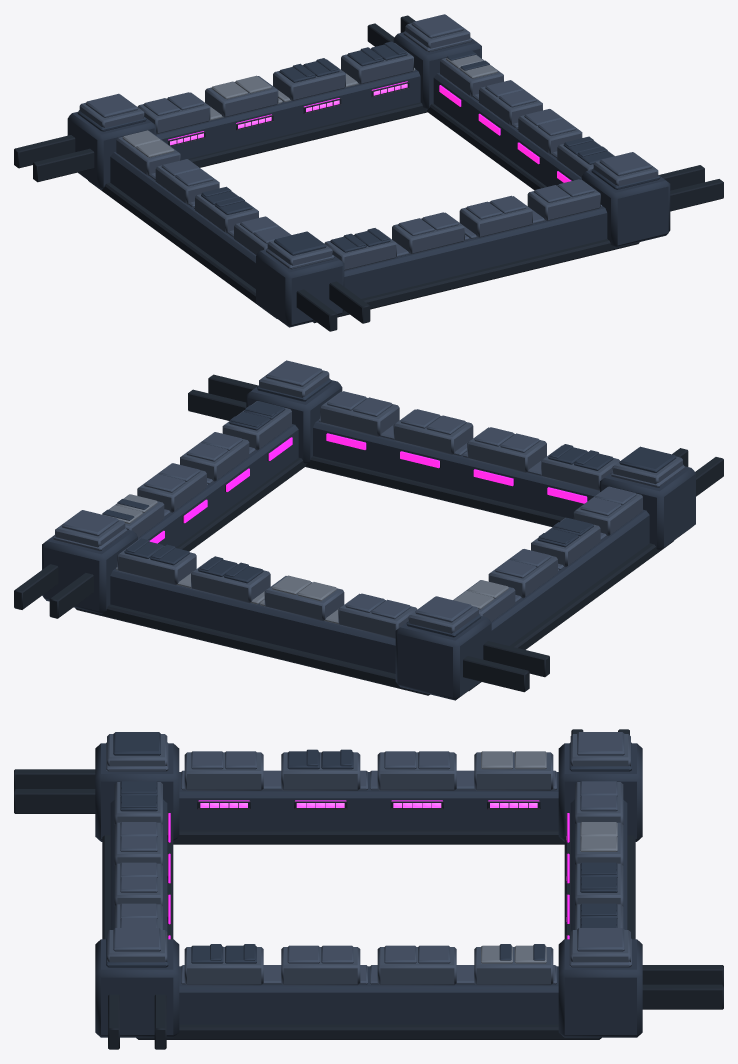
File: orbital_ring.glb
3 renders of one model, top to bottom at view 1: azimuth 30°, elevation 25°; view 2: azimuth 150°, elevation 25°; view 3: azimuth 270°, elevation 25°, orthographic. The views are drawn at different scales.
Parts seen in each view (by area): view 1: 01_orbital_ring__structure; view 2: 01_orbital_ring__structure; view 3: 01_orbital_ring__structure.
Boxes of the visible parts, <box> form: 01_orbital_ring__structure: <box>14,14,723,331</box>; 01_orbital_ring__structure: <box>14,360,723,700</box>; 01_orbital_ring__structure: <box>14,729,723,1049</box>.
Size of the model in its own units: 160 by 22.06 by 160.
